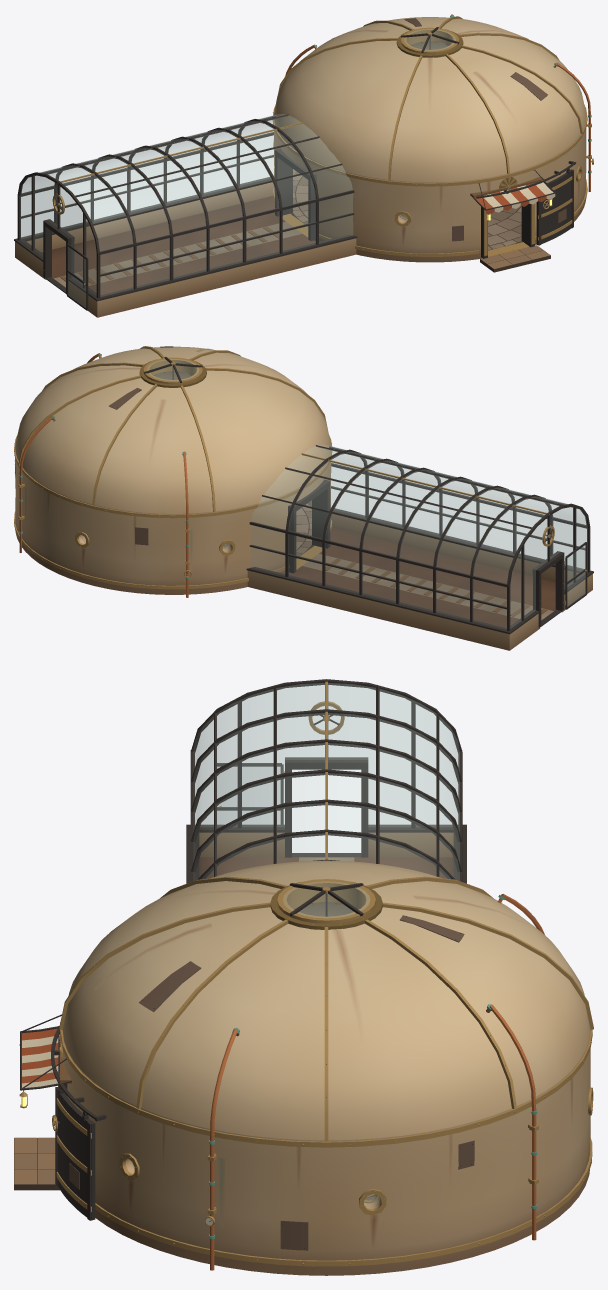
File: shell.glb
The picture shows the model from 3 angles, top to bottom: view 1: azimuth 30°, elevation 25°; view 2: azimuth 150°, elevation 25°; view 3: azimuth 270°, elevation 25°; orthographic projection. The views are drawn at different scales.
Visible parts, largest first — view 1: Hall_Dome, Greenhouse_Glass, Greenhouse_Frame, Hall_Wall, Greenhouse_Floor, Greenhouse_Walls, Hall_Trim, FrontDoor_Frame, Hall_Floor, FrontDoor_Slab, FrontDoor_Awning, Hall_Oculus (+4 smaller); view 2: Hall_Dome, Greenhouse_Glass, Hall_Wall, Greenhouse_Frame, Greenhouse_Floor, Greenhouse_Walls, Hall_Trim, Hall_Streaks, FrontDoor_Frame, Hall_Oculus, Hall_Pipes, Hall_Floor (+1 smaller); view 3: Hall_Dome, Hall_Wall, Greenhouse_Glass, Greenhouse_Frame, Hall_Trim, Hall_Streaks, FrontDoor_Slab, Hall_Oculus, Greenhouse_Walls, Hall_Pipes, FrontDoor_Awning, Greenhouse_Floor (+2 smaller).
Part boxes in pixels (bbox=[...]): Hall_Dome: bbox=[274, 17, 586, 182]; Greenhouse_Glass: bbox=[20, 114, 352, 307]; Greenhouse_Frame: bbox=[14, 114, 357, 310]; Hall_Wall: bbox=[274, 117, 586, 262]; Greenhouse_Floor: bbox=[41, 196, 315, 295]; Greenhouse_Walls: bbox=[15, 182, 356, 317]; Hall_Trim: bbox=[272, 16, 587, 256]; FrontDoor_Frame: bbox=[274, 148, 534, 258]; Hall_Floor: bbox=[282, 172, 529, 256]; FrontDoor_Slab: bbox=[536, 168, 574, 245]; FrontDoor_Awning: bbox=[470, 161, 576, 213]; Hall_Oculus: bbox=[396, 27, 463, 57]; Hall_Dome: bbox=[15, 346, 330, 513]; Greenhouse_Glass: bbox=[251, 445, 587, 629]; Hall_Wall: bbox=[15, 449, 331, 594]; Greenhouse_Frame: bbox=[246, 445, 593, 634]; Greenhouse_Floor: bbox=[289, 527, 565, 628]; Greenhouse_Walls: bbox=[247, 513, 592, 650]; Hall_Trim: bbox=[14, 346, 332, 589]; Hall_Streaks: bbox=[25, 348, 277, 575]; FrontDoor_Frame: bbox=[288, 479, 330, 573]; Hall_Oculus: bbox=[139, 357, 206, 387]; Hall_Pipes: bbox=[18, 353, 191, 597]; Hall_Floor: bbox=[223, 503, 322, 569]; Hall_Dome: bbox=[62, 860, 590, 1140]; Hall_Wall: bbox=[62, 1030, 590, 1275]; Greenhouse_Glass: bbox=[193, 683, 459, 880]; Greenhouse_Frame: bbox=[186, 679, 466, 883]; Hall_Trim: bbox=[59, 876, 593, 1266]; Hall_Streaks: bbox=[94, 889, 590, 1250]; FrontDoor_Slab: bbox=[52, 1085, 95, 1220]; Hall_Oculus: bbox=[270, 879, 382, 929]; Greenhouse_Walls: bbox=[199, 832, 453, 857]; Hall_Pipes: bbox=[204, 894, 544, 1270]; FrontDoor_Awning: bbox=[20, 1014, 106, 1121]; Greenhouse_Floor: bbox=[199, 857, 453, 878].
Bounding box in the file's own units: 28.9 × 8.83 × 16.7.
